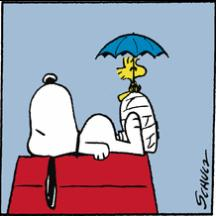snoopy: (26, 70, 160, 210)
